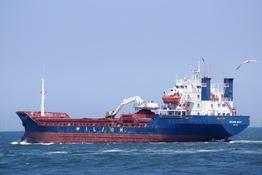Cargoship: (14, 53, 259, 146)
